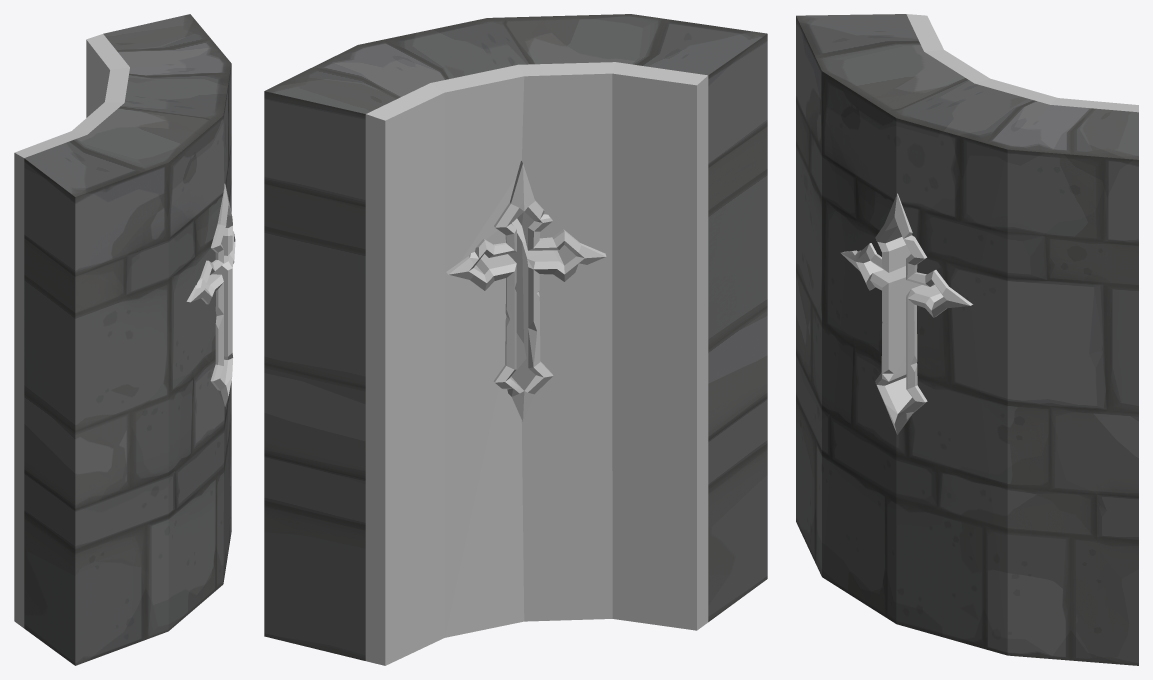
File: SM_Bld_Wall_L_Curve_Window_02.fbx
3 views of the same model, side by side, from view 1: azimuth 30°, elevation 25°; view 2: azimuth 150°, elevation 25°; view 3: azimuth 270°, elevation 25° (orthographic). The views are drawn at different scales.
Parts seen in each view (by area): view 1: SM_Bld_Wall_L_Curve_Window_02; view 2: SM_Bld_Wall_L_Curve_Window_02; view 3: SM_Bld_Wall_L_Curve_Window_02.
Part boxes in pixels (x1,y1,x2,y2): SM_Bld_Wall_L_Curve_Window_02: (14, 14, 235, 665); SM_Bld_Wall_L_Curve_Window_02: (264, 14, 767, 665); SM_Bld_Wall_L_Curve_Window_02: (796, 14, 1138, 665).
Bounding box in the file's own units: 367 × 602 × 369.
